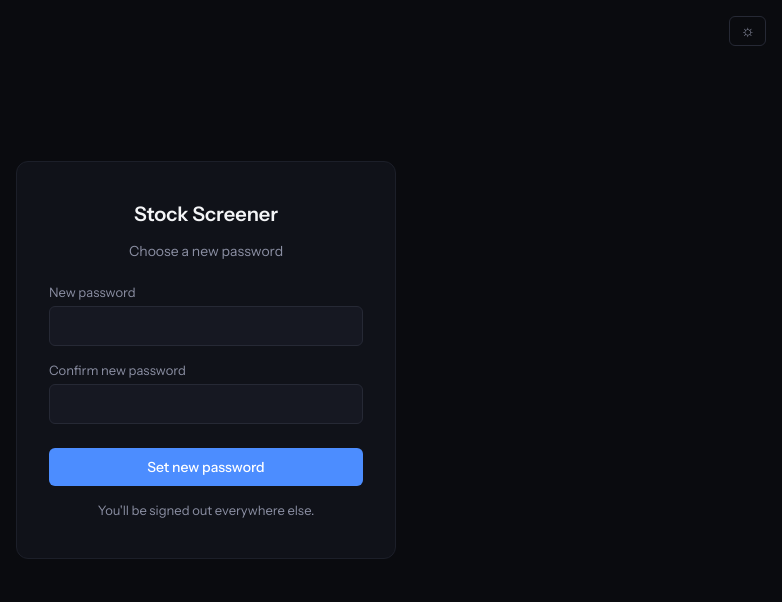
Test: ResetPasswordView › checks the two passwords match before sending
Type "brand-new-pass" into the password field labelled "New password" at (206, 326), box [49,306,363,346]
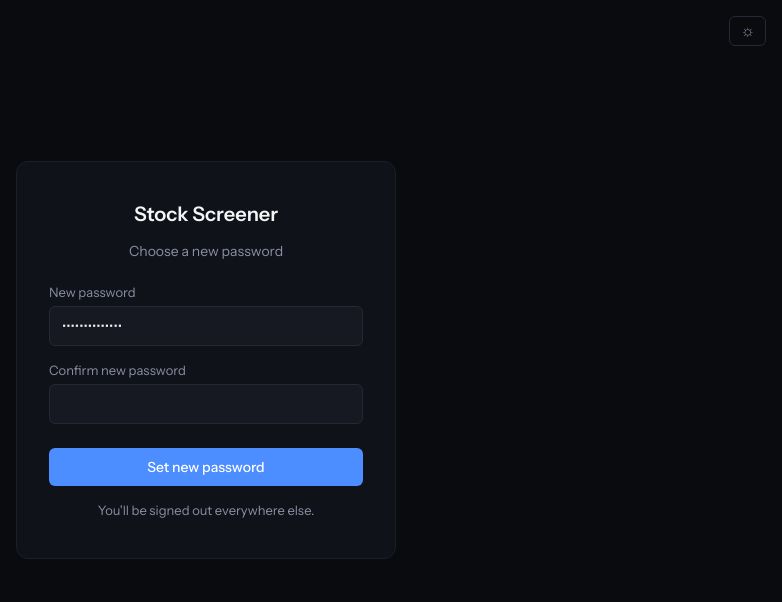
Type "different-pass" into the password field labelled "Confirm new password" at (206, 404), box [49,384,363,424]
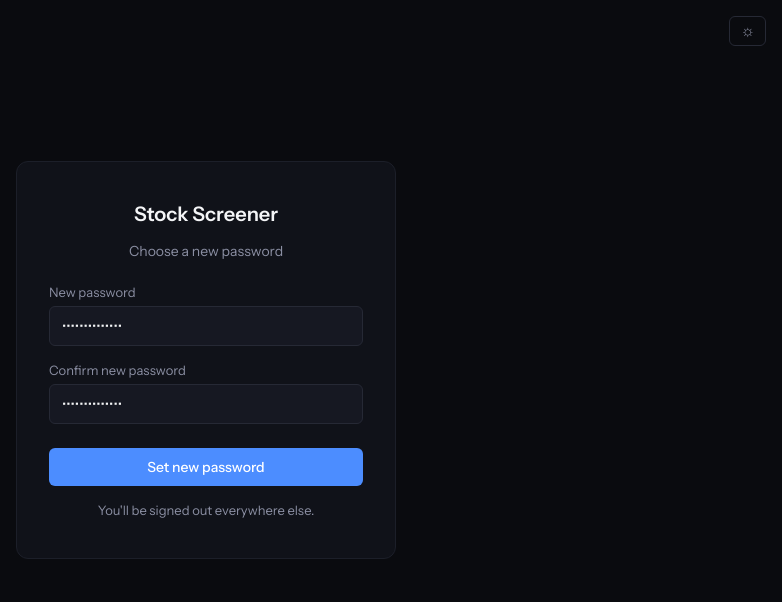
Submit the form, box [49,284,363,518]
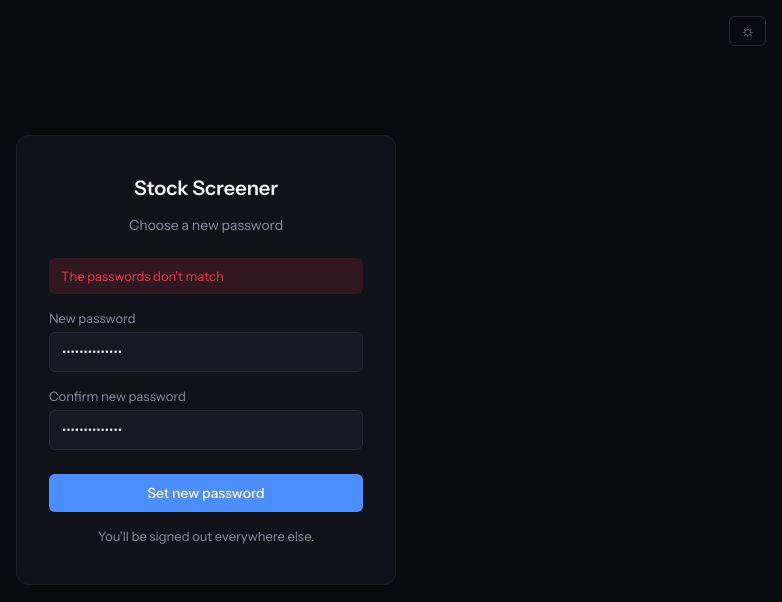
Now the text with class "form-error" reads "The passwords don't match", box [61,268,224,284]
